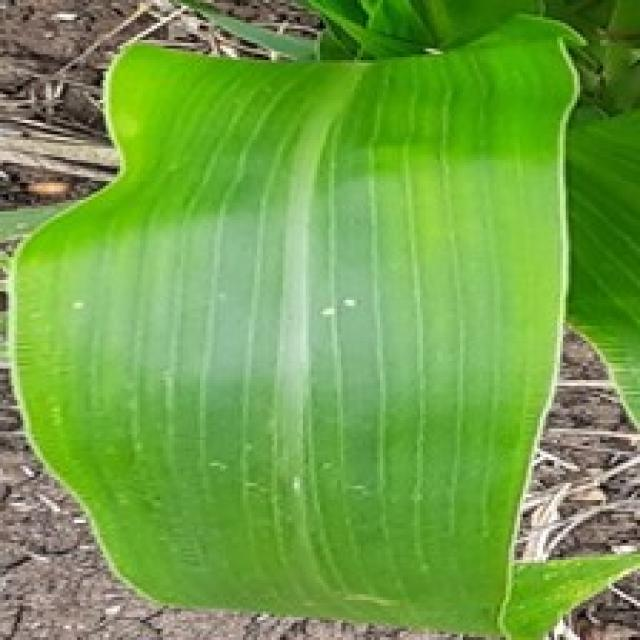Corn: (0, 6, 637, 637), (563, 94, 637, 466)
